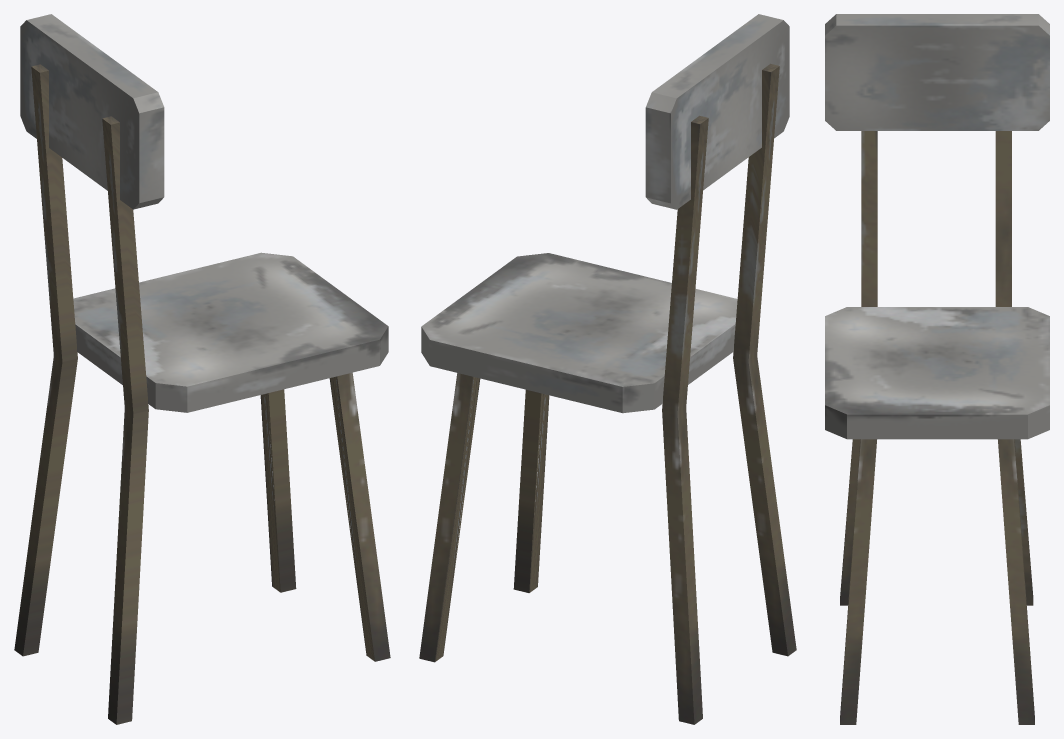
Rendered from Chair.FBX.
3 views of the same model, side by side, from view 1: azimuth 30°, elevation 25°; view 2: azimuth 150°, elevation 25°; view 3: azimuth 270°, elevation 25° (orthographic). The views are drawn at different scales.
Visible parts, largest first — view 1: Chair; view 2: Chair; view 3: Chair.
Boxes of the visible parts, x1,y1,x2,y2 form: Chair: (14,14,390,724); Chair: (419,14,796,724); Chair: (825,14,1049,724).
Size of the model in its own units: 51.47 by 111 by 38.39.
